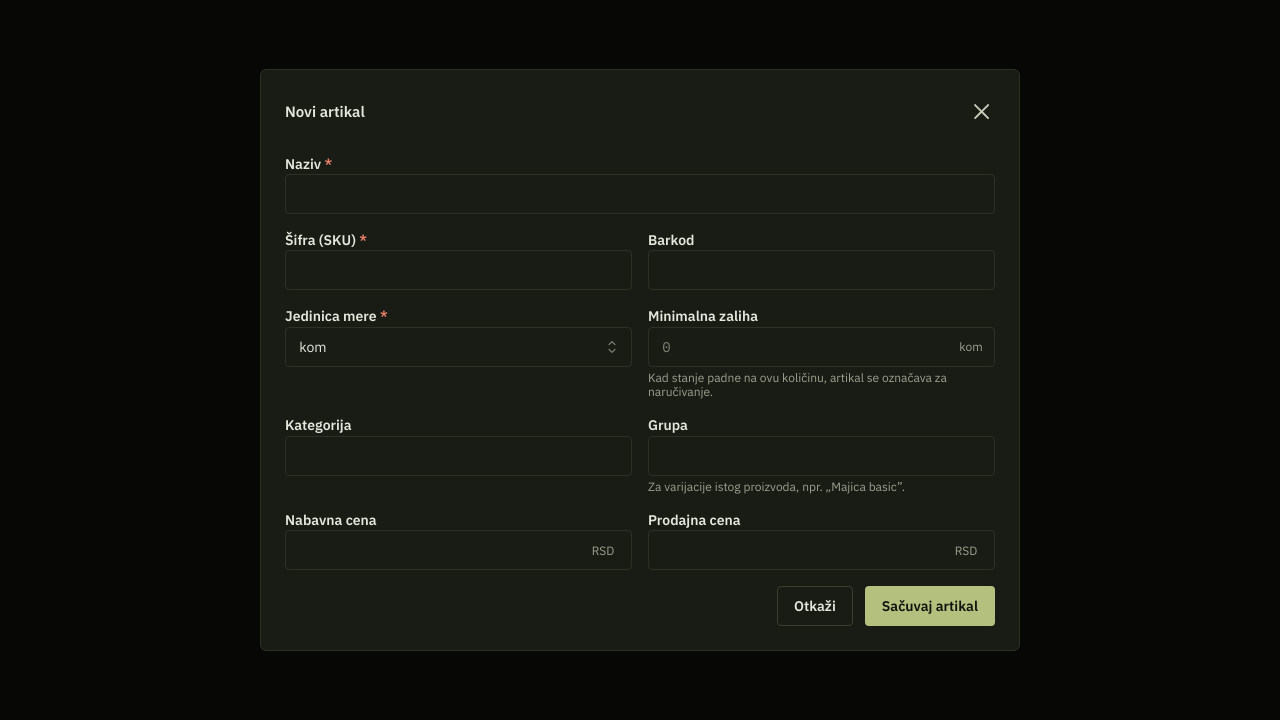
Test: ItemModal › Submit_TextInNumberField_ShowsErrorWithoutCallingApi
The image size is (1280, 720).
In the field labelled "Prodajna cena": x=822, y=550 648,530 -> 995,570, type "skupo"
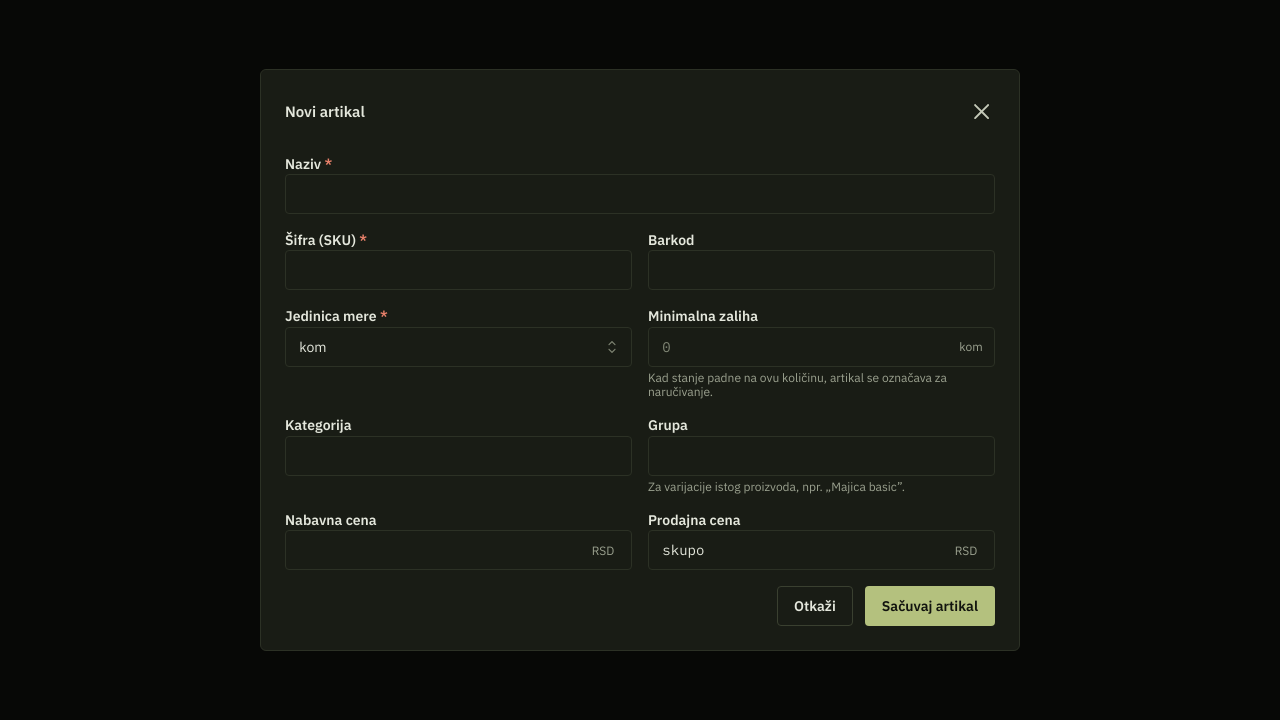
Click the button "Sačuvaj artikal": x=930, y=606 865,586 -> 995,626
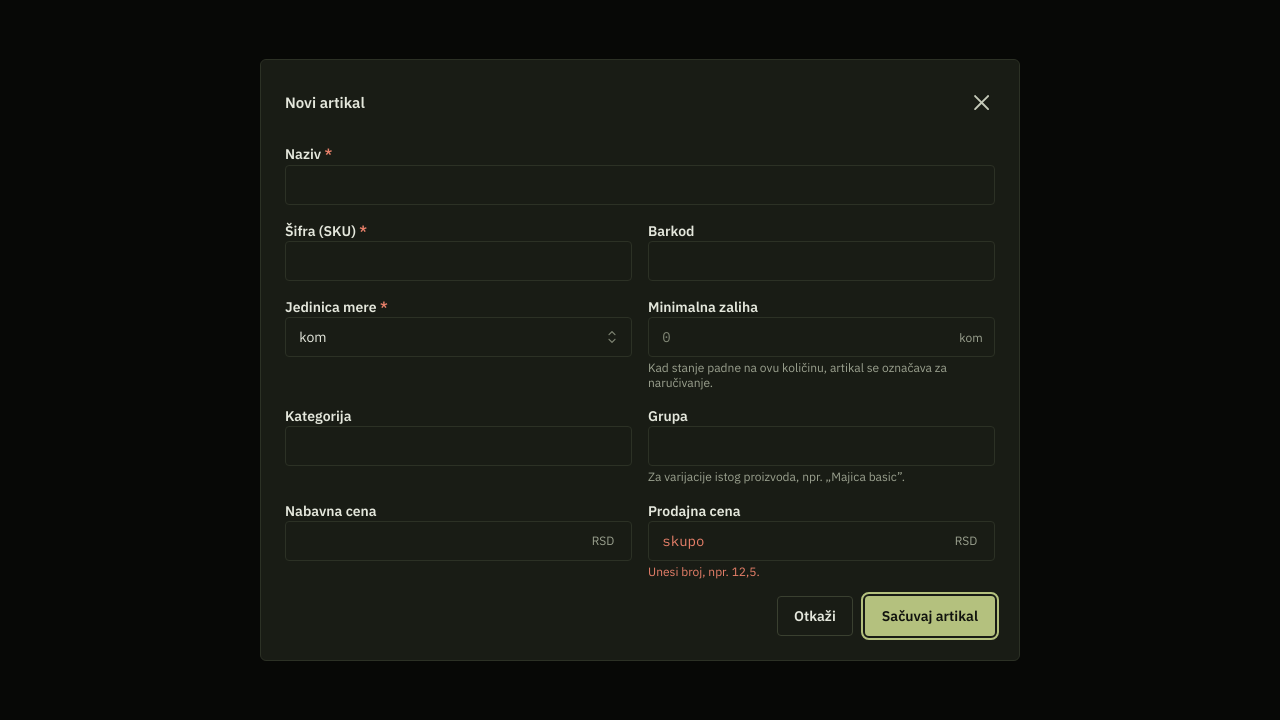
Now the text "Unesi broj, npr. 12,5." is shown, box 648,564 -> 760,579
